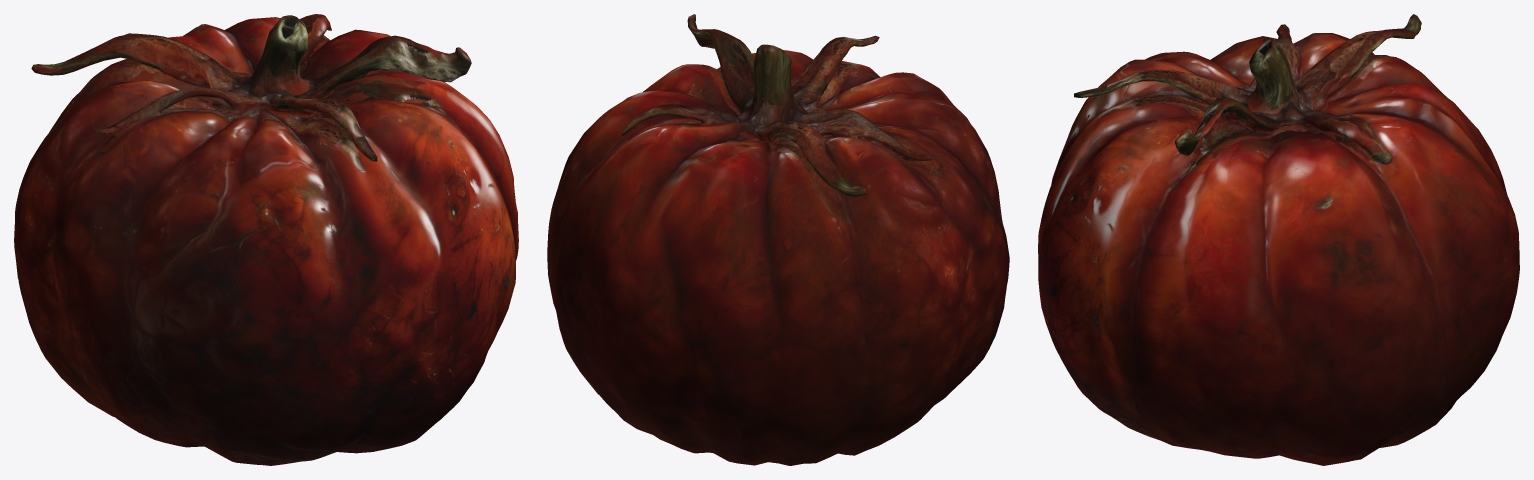
File: Tomato.fbx
3 views of the same model, side by side, from view 1: azimuth 30°, elevation 25°; view 2: azimuth 150°, elevation 25°; view 3: azimuth 270°, elevation 25° (orthographic). The views are drawn at different scales.
Visible parts, largest first — view 1: Mesh_0; view 2: Mesh_0; view 3: Mesh_0.
Boxes of the visible parts, x1,y1,x2,y2 form: Mesh_0: [14, 14, 518, 465]; Mesh_0: [547, 14, 1009, 465]; Mesh_0: [1038, 14, 1519, 465].
Size of the model in its own units: 196 by 176 by 200.
1 material, 1 textured.
